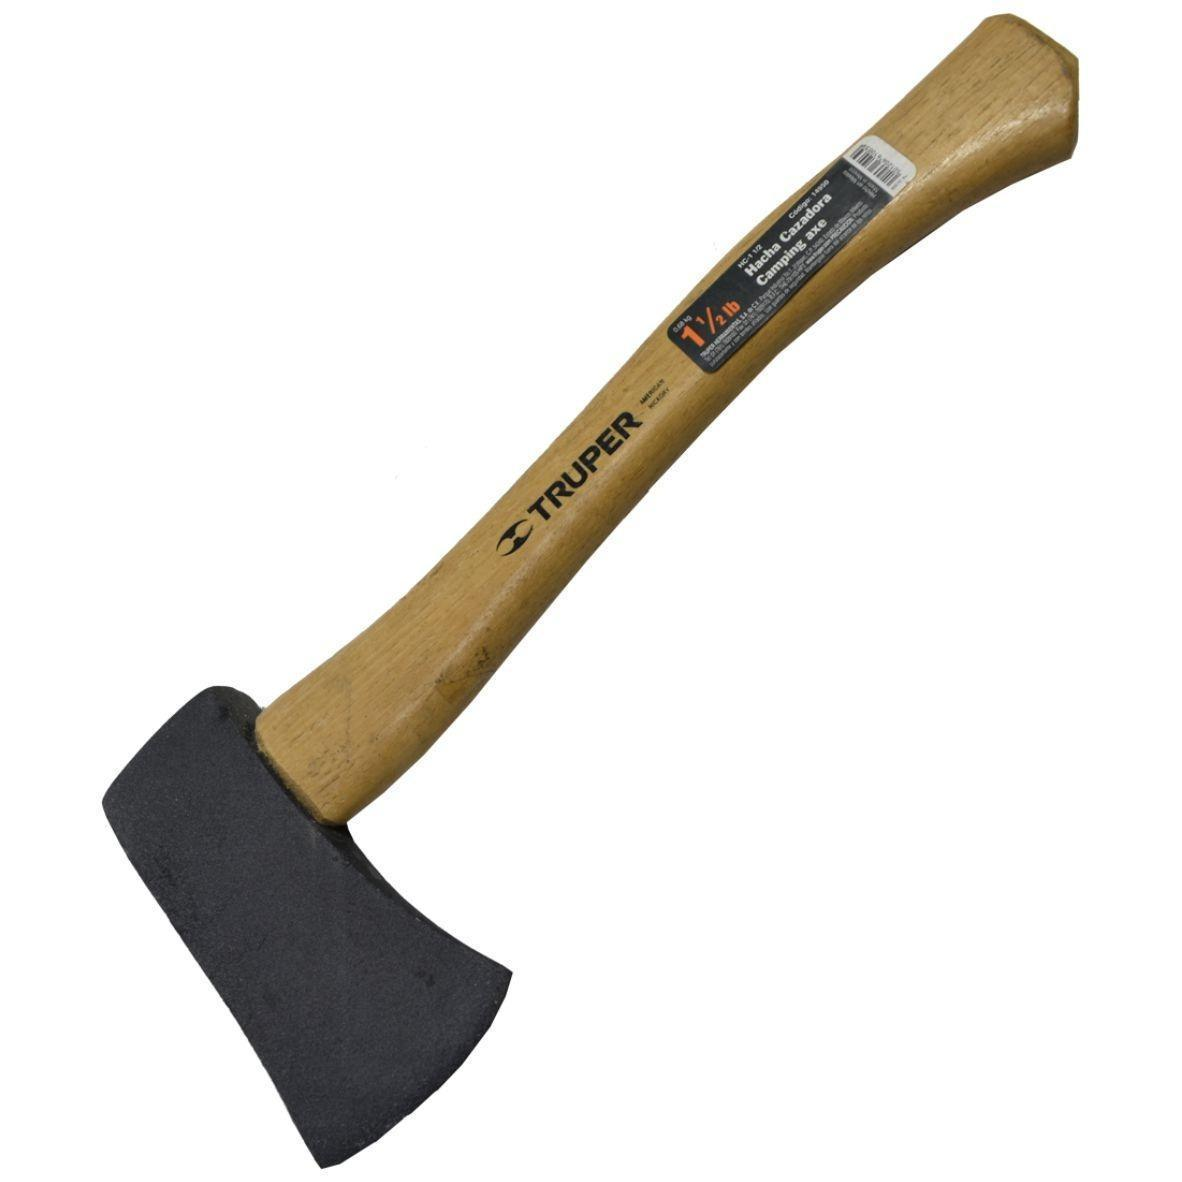machado: (104, 15, 1078, 1166)
